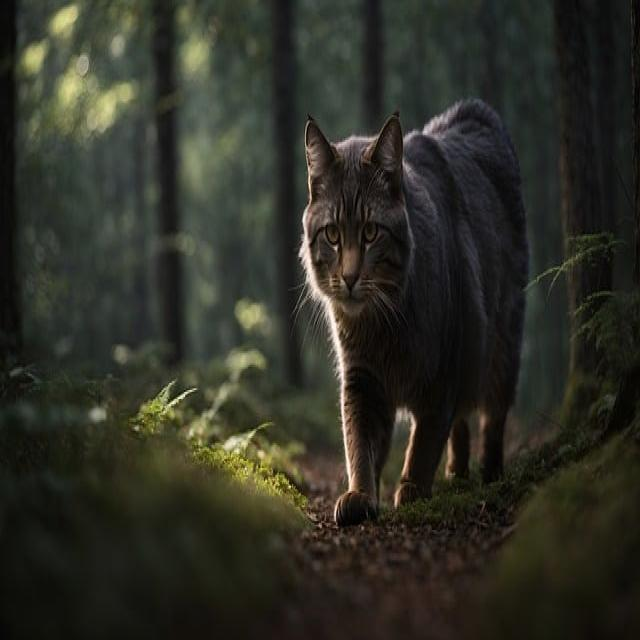cat: (300, 100, 529, 524)
